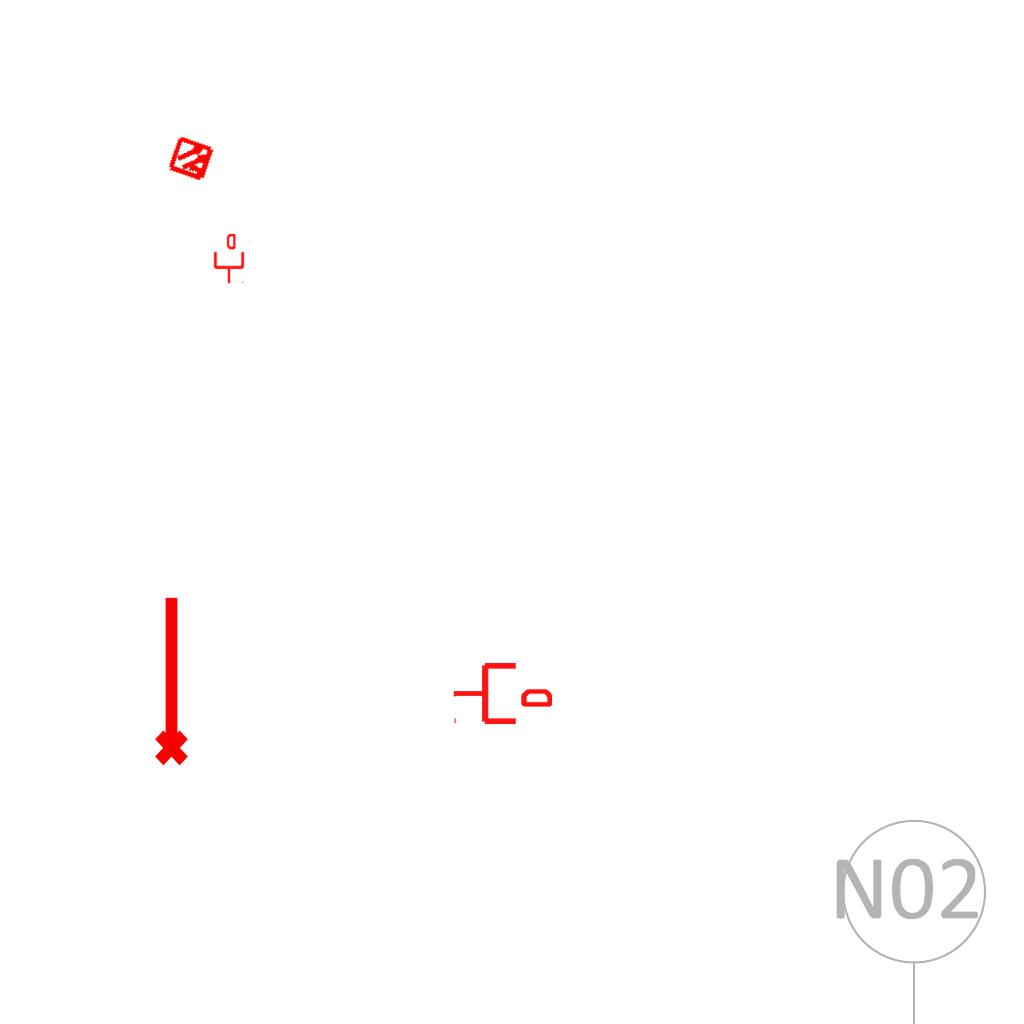ASR_Ansaugoeffnung: (146, 592, 192, 768)
Datenanschluss_einfach: (452, 659, 552, 728), (212, 234, 246, 284)
OT_Multisensormelder_(Kombination_RMO_WMD): (156, 123, 228, 195)
